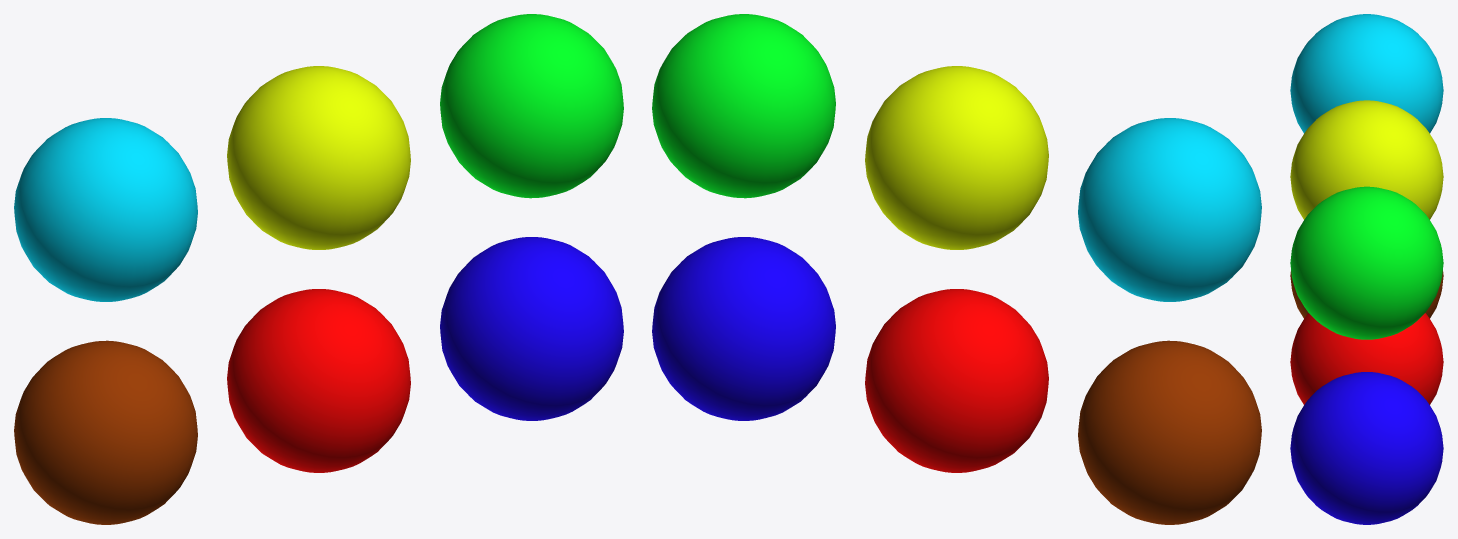
File: Calibration Spheres.FBX
3 renders of one model, left to right at view 1: azimuth 30°, elevation 25°; view 2: azimuth 150°, elevation 25°; view 3: azimuth 270°, elevation 25°, orthographic. The views are drawn at different scales.
Visible parts, largest first — view 1: Sphere001; view 2: Sphere001; view 3: Sphere001.
Part boxes in pixels (x1,y1,x2,y2): Sphere001: (14, 14, 623, 524); Sphere001: (652, 14, 1261, 524); Sphere001: (1290, 14, 1443, 524).
Size of the model in its own units: 2200 by 1400 by 600.
